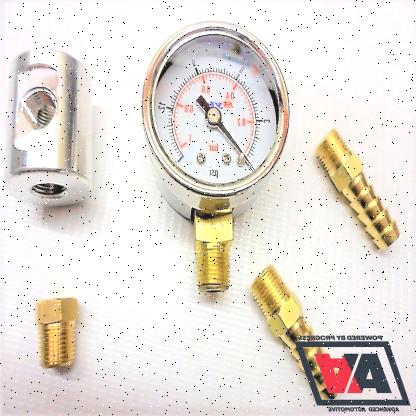needle: (216, 121, 254, 169)
